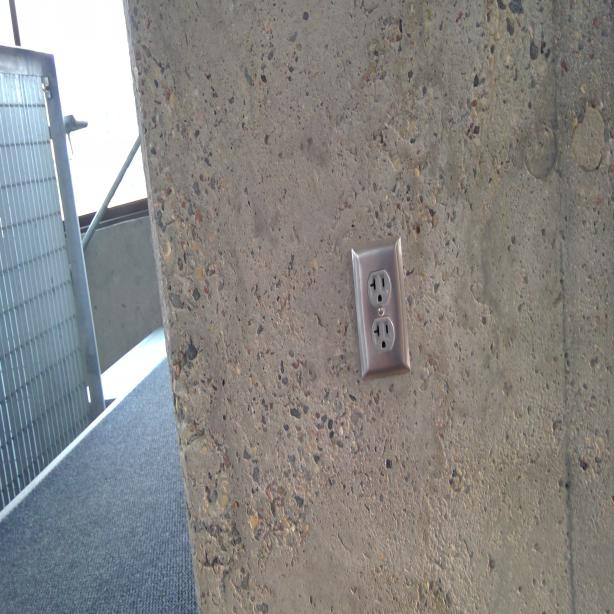typeb: (371, 318, 396, 353), (368, 272, 391, 308)
